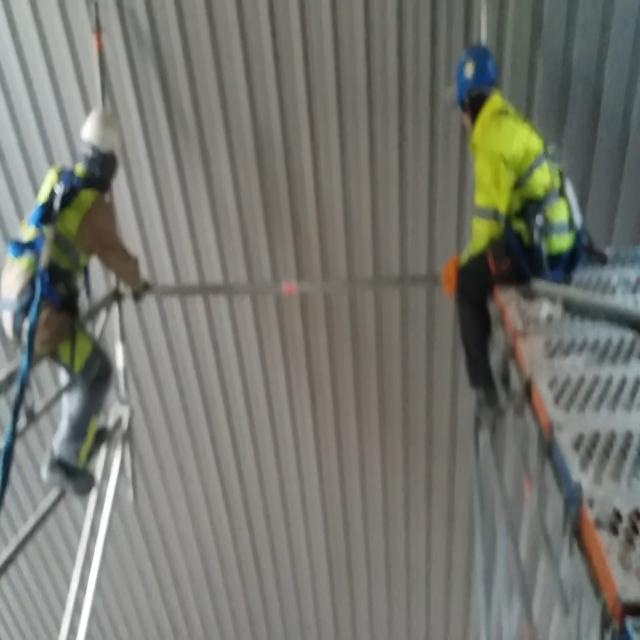Arnes_seguridad: (0, 160, 113, 372)
